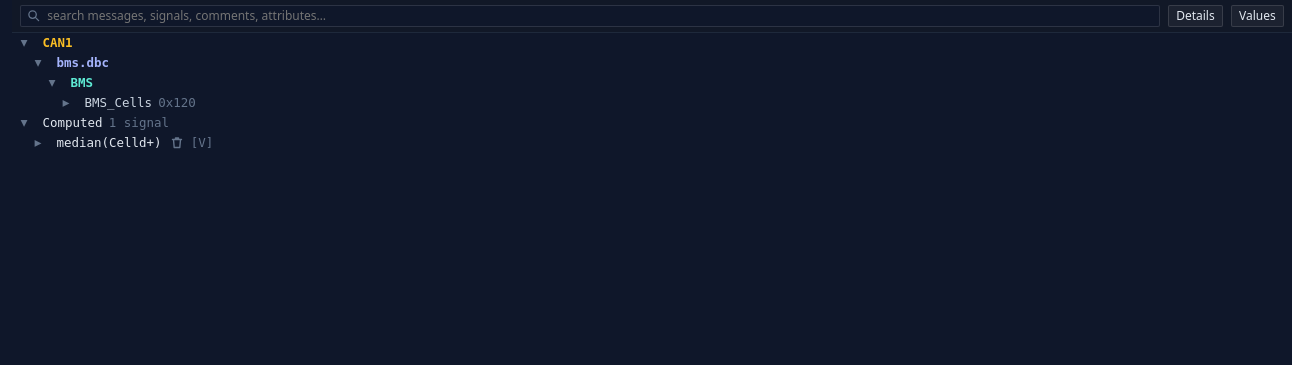
Test: expanding a definition › opens its editor in place — one stage, no read-only detail
Click the button "▸" next to "median(Celld+)". click: (38, 143)
box: [26,134,50,151]
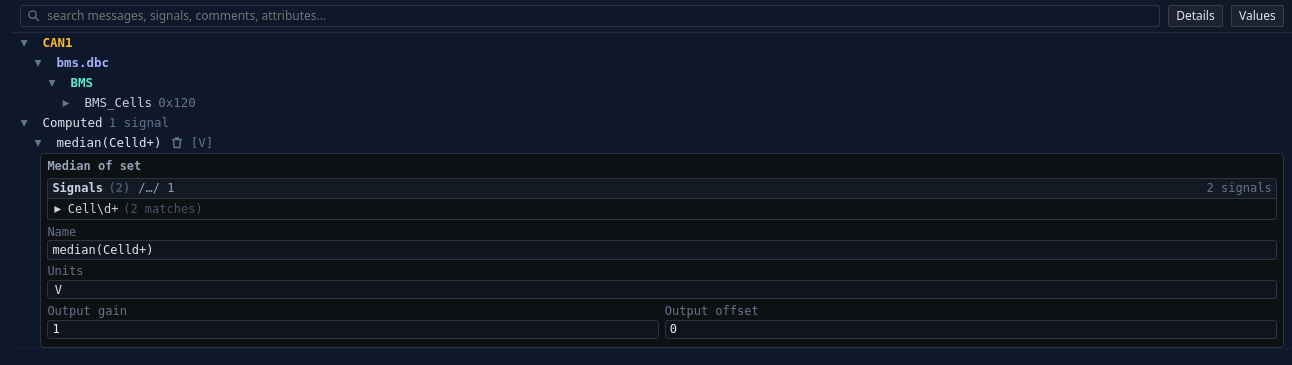
Result: the element that starts with "Median of set" is shown at [47,159,141,173]
Result: the element named "Signals operands" shows "2 signals" at [1207,182,1272,196]
